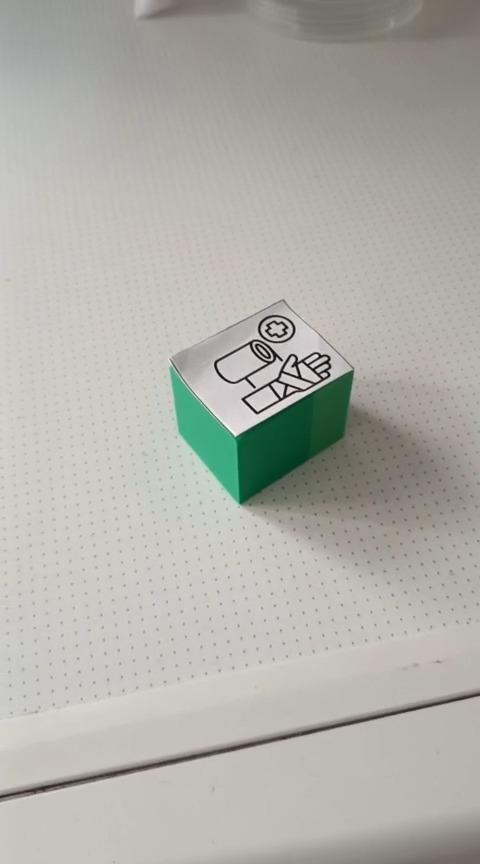Bandages: (171, 297, 355, 504)
